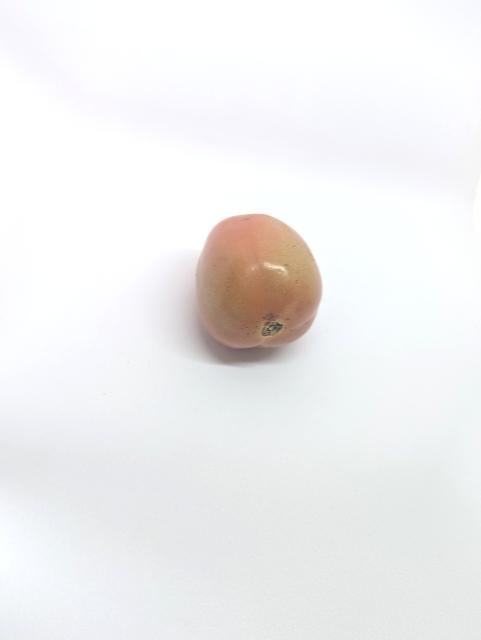turning: (189, 210, 327, 361)
